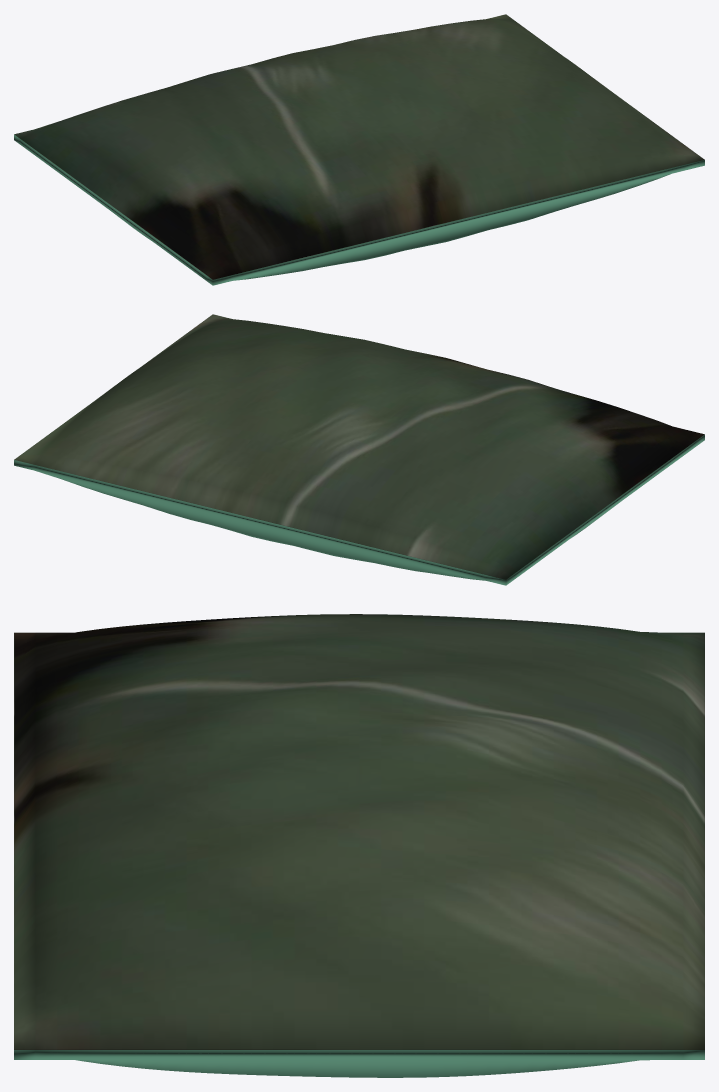
Rendered from pantry_contents__green_snack_pouch.glb.
3 renders of one model, top to bottom at view 1: azimuth 30°, elevation 25°; view 2: azimuth 150°, elevation 25°; view 3: azimuth 270°, elevation 25°, orthographic. The views are drawn at different scales.
Parts seen in each view (by area): view 1: green_snack_pouch__body; view 2: green_snack_pouch__body; view 3: green_snack_pouch__body.
Part boxes in pixels (x1=…): green_snack_pouch__body: x1=14, y1=14, x2=704, y2=285; green_snack_pouch__body: x1=14, y1=314, x2=704, y2=585; green_snack_pouch__body: x1=14, y1=614, x2=704, y2=1077.
Bounding box in the file's own units: 0.2 × 0.045 × 0.14.
2 materials, 1 textured.
